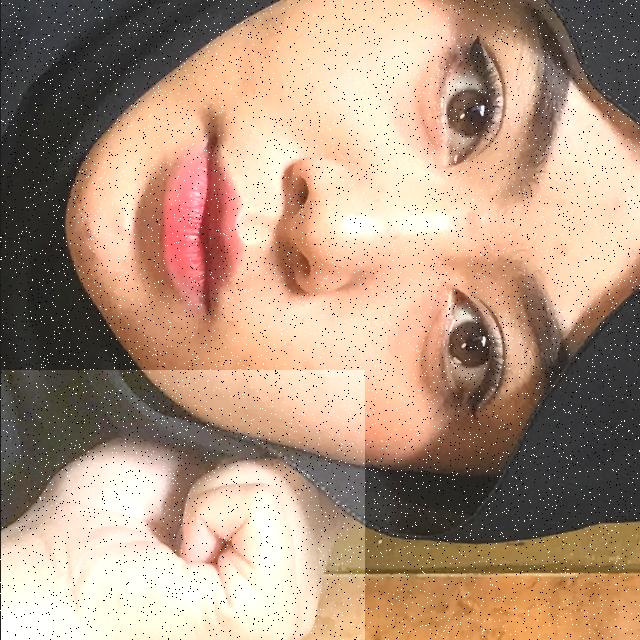ibu: (0, 370, 364, 640)
